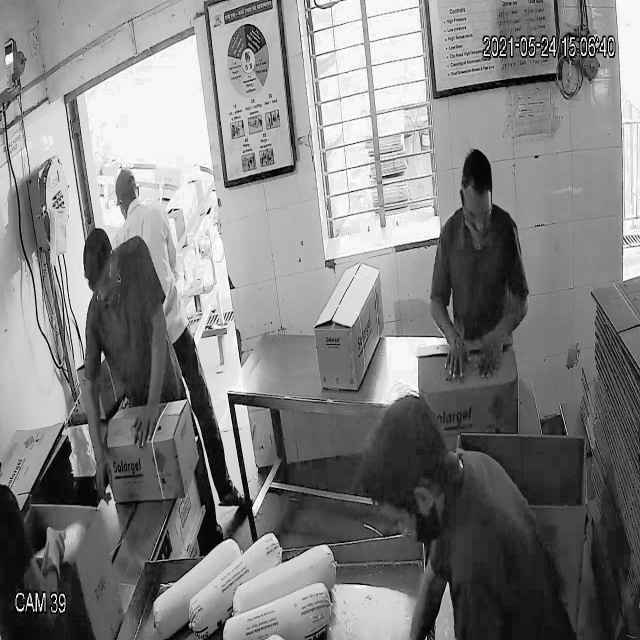Gafas: (85, 252, 117, 302)
